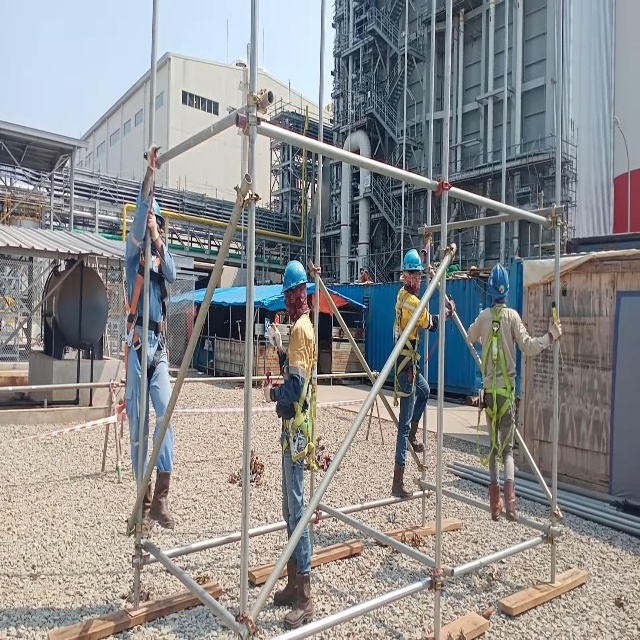Arnes_seguridad: (475, 291, 522, 472), (121, 247, 170, 381), (280, 318, 321, 474), (392, 284, 423, 402)
